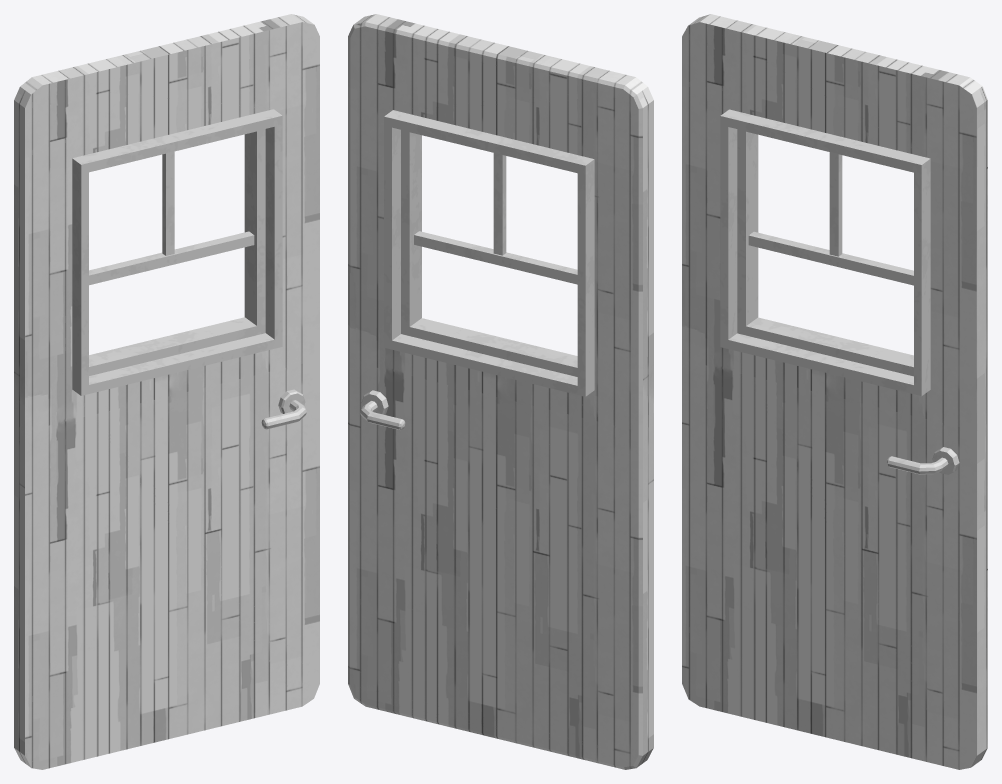
The model's file is Train Coach Door_B_001.fbx.
3 renders of one model, left to right at view 1: azimuth 30°, elevation 25°; view 2: azimuth 150°, elevation 25°; view 3: azimuth 330°, elevation 25°, orthographic.
Parts seen in each view (by area): view 1: Train_Coach_Door_B_001; view 2: Train_Coach_Door_B_001; view 3: Train_Coach_Door_B_001.
Boxes of the visible parts, <box> form: Train_Coach_Door_B_001: <box>14,14,319,769</box>; Train_Coach_Door_B_001: <box>348,14,653,769</box>; Train_Coach_Door_B_001: <box>682,14,987,769</box>.
Size of the model in its own units: 76.79 by 170 by 22.4.
2 materials, 2 textured.
